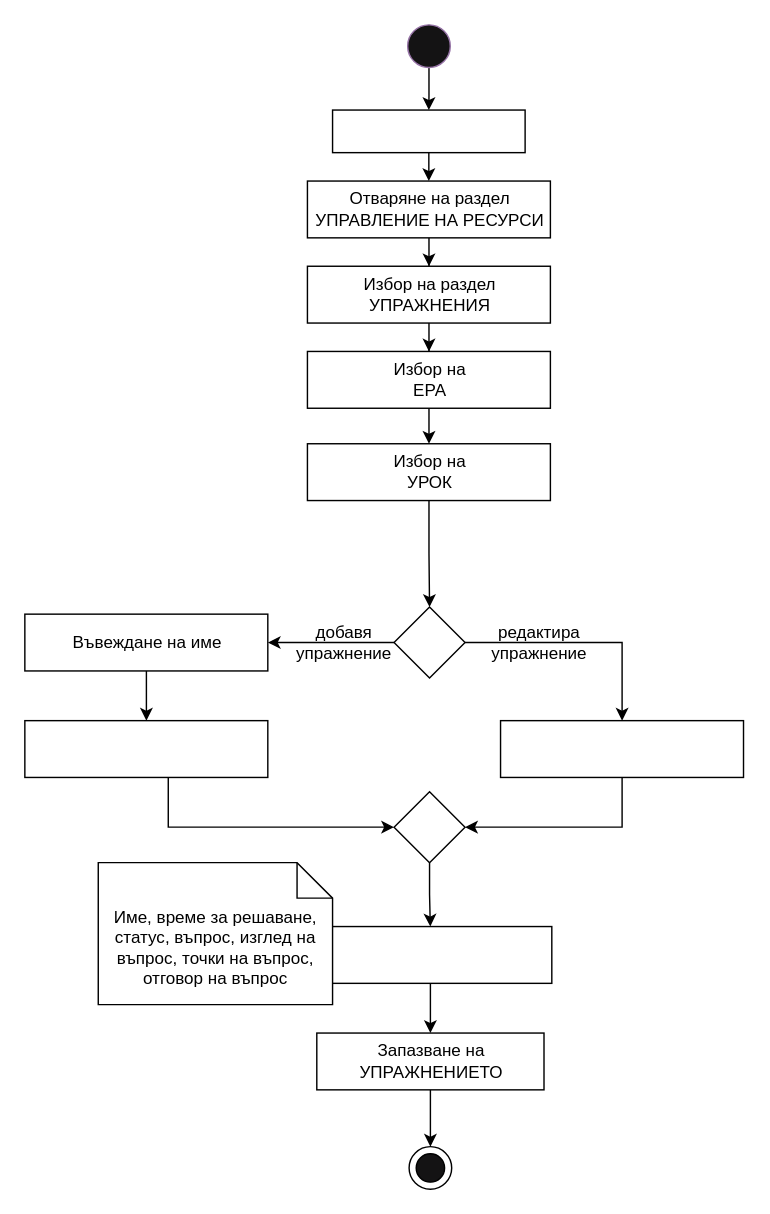
Some shapes in this 770 by 1214 pixel diagram are drawn without their labels. The shapes that lost their labels are listed below. From the top down, each one's box as (x1, y1, x2, y2) in pixels, then its label:
(331, 109, 525, 153): Вход в системата
(23, 719, 268, 777): Добавяне на УПРАЖНЕНИЕ
(499, 719, 744, 777): Избор на УПРАЖНЕНИЕ
(307, 925, 552, 983): Редактиране на необходимите полета
